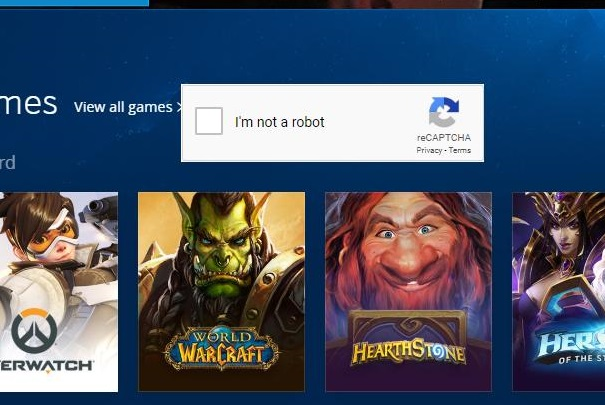captcha: (195, 107, 327, 135)
